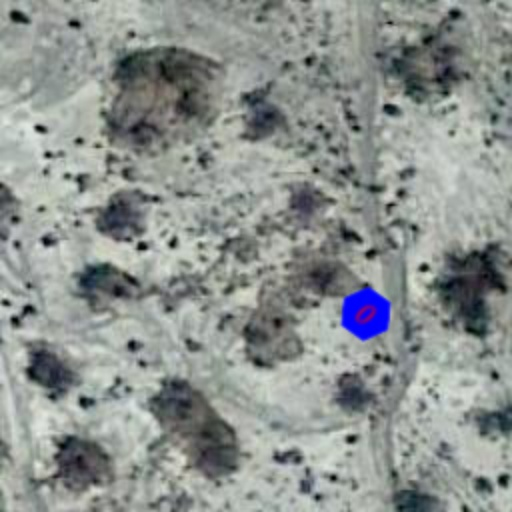hexagon: (326, 274, 406, 354)
